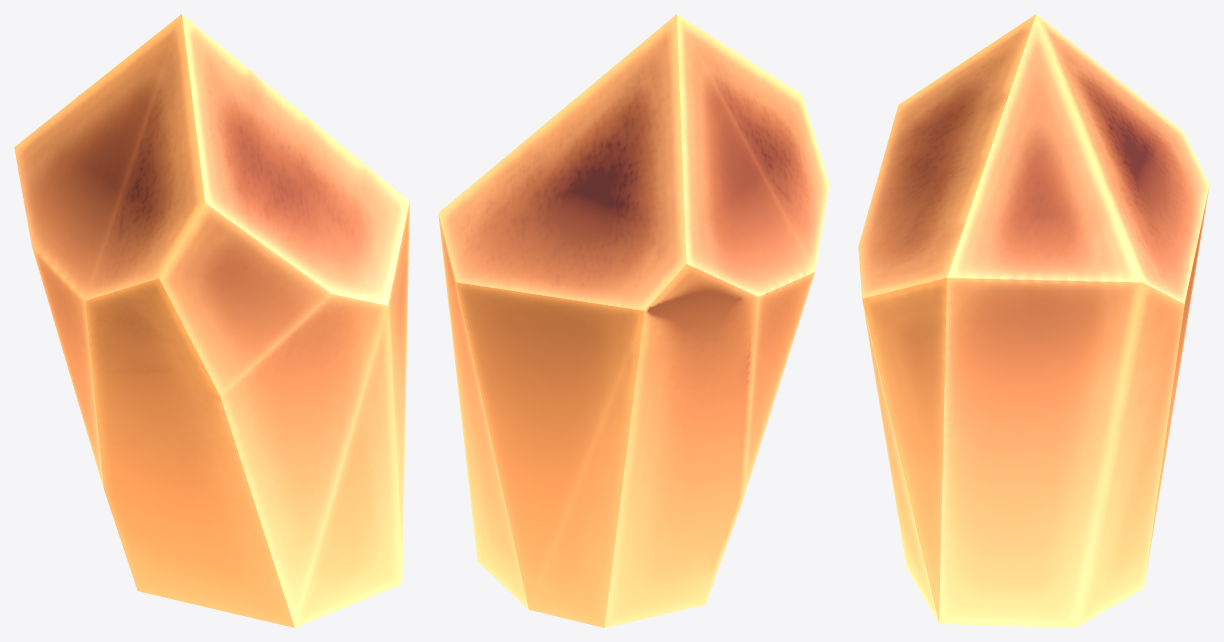
Rendered from crystal_piece_002.fbx.
The picture shows the model from 3 angles, left to right: view 1: azimuth 30°, elevation 25°; view 2: azimuth 150°, elevation 25°; view 3: azimuth 270°, elevation 25°; orthographic projection. The views are drawn at different scales.
Visible parts, largest first — view 1: crystal_piece_002; view 2: crystal_piece_002; view 3: crystal_piece_002.
Part boxes in pixels (x1,y1,x2,y2): crystal_piece_002: (14, 14, 409, 627); crystal_piece_002: (438, 14, 829, 627); crystal_piece_002: (858, 14, 1209, 627).
Size of the model in its own units: 0.6287 by 1.16 by 0.6902.
Materials: 1 (1 with a texture image).
